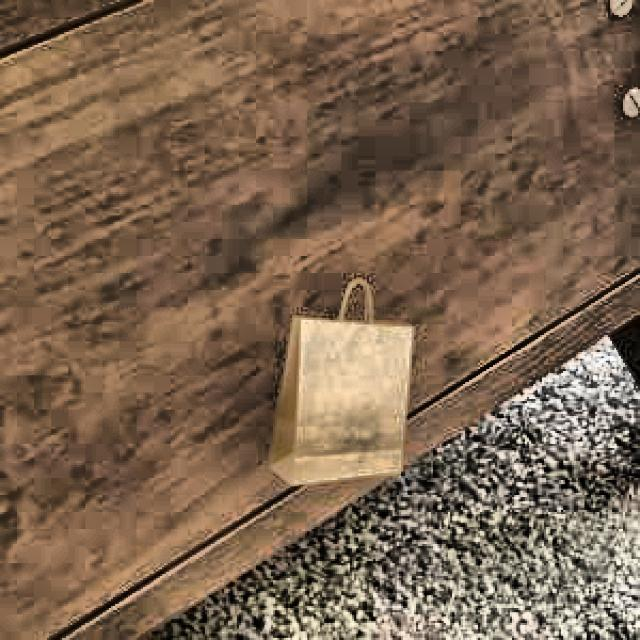Paper-bag: (264, 262, 415, 483)
